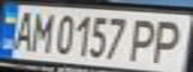0: (51, 11, 75, 56)
1: (72, 12, 93, 57)
5: (87, 12, 112, 60)
7: (106, 14, 133, 61)
A: (6, 7, 39, 52)
M: (27, 8, 57, 53)
P: (145, 16, 190, 65), (127, 15, 163, 64)
